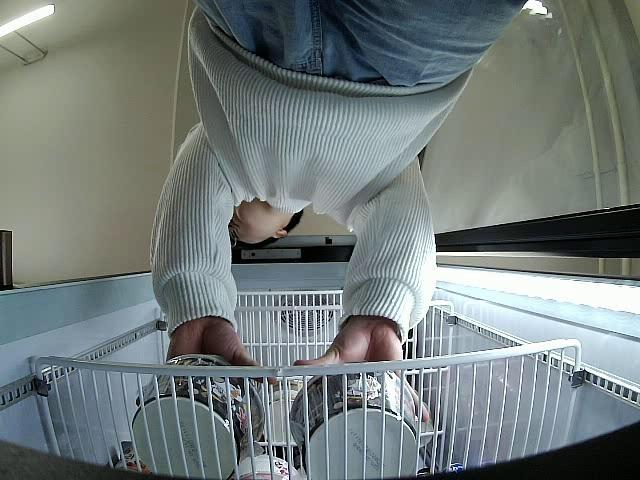07_buldak_L: (132, 353, 268, 480), (285, 362, 419, 480)
